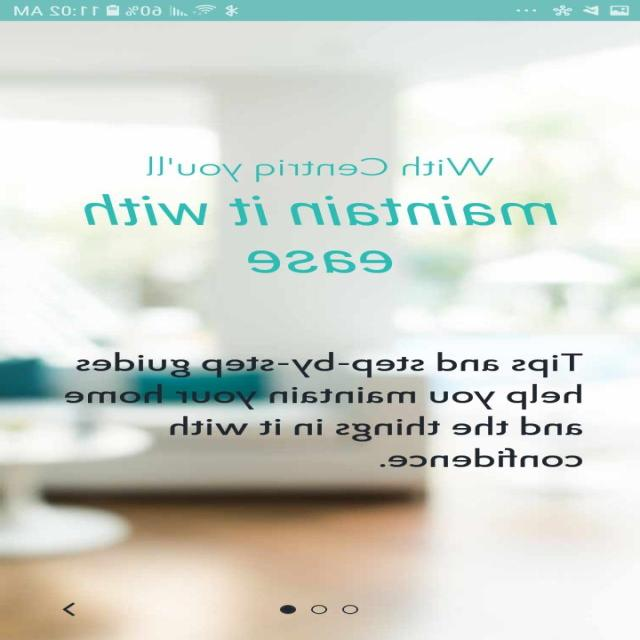BackgroundImage: (2, 21, 640, 639)
Icon: (63, 602, 77, 616)
Text: (66, 350, 585, 468), (84, 194, 558, 274), (146, 156, 494, 183)
